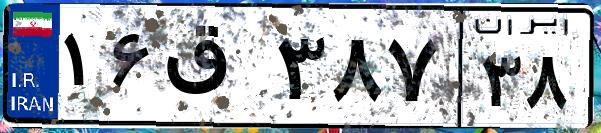1: (57, 26, 110, 100)
3: (270, 28, 330, 110), (475, 38, 525, 113)
6: (110, 28, 158, 98)
7: (385, 28, 445, 110)
8: (330, 28, 385, 110), (525, 38, 570, 115)
ق: (158, 20, 270, 120)
